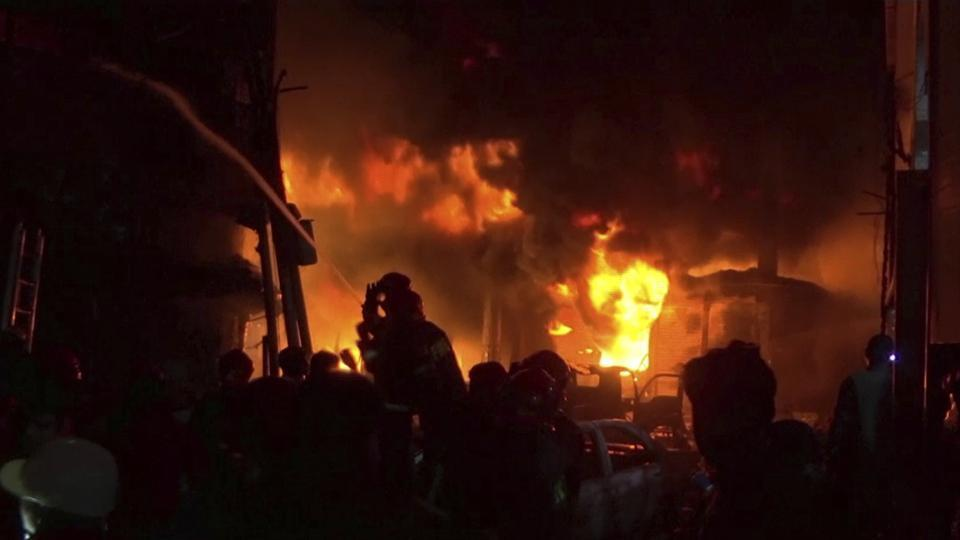Fire: (281, 112, 697, 394)
